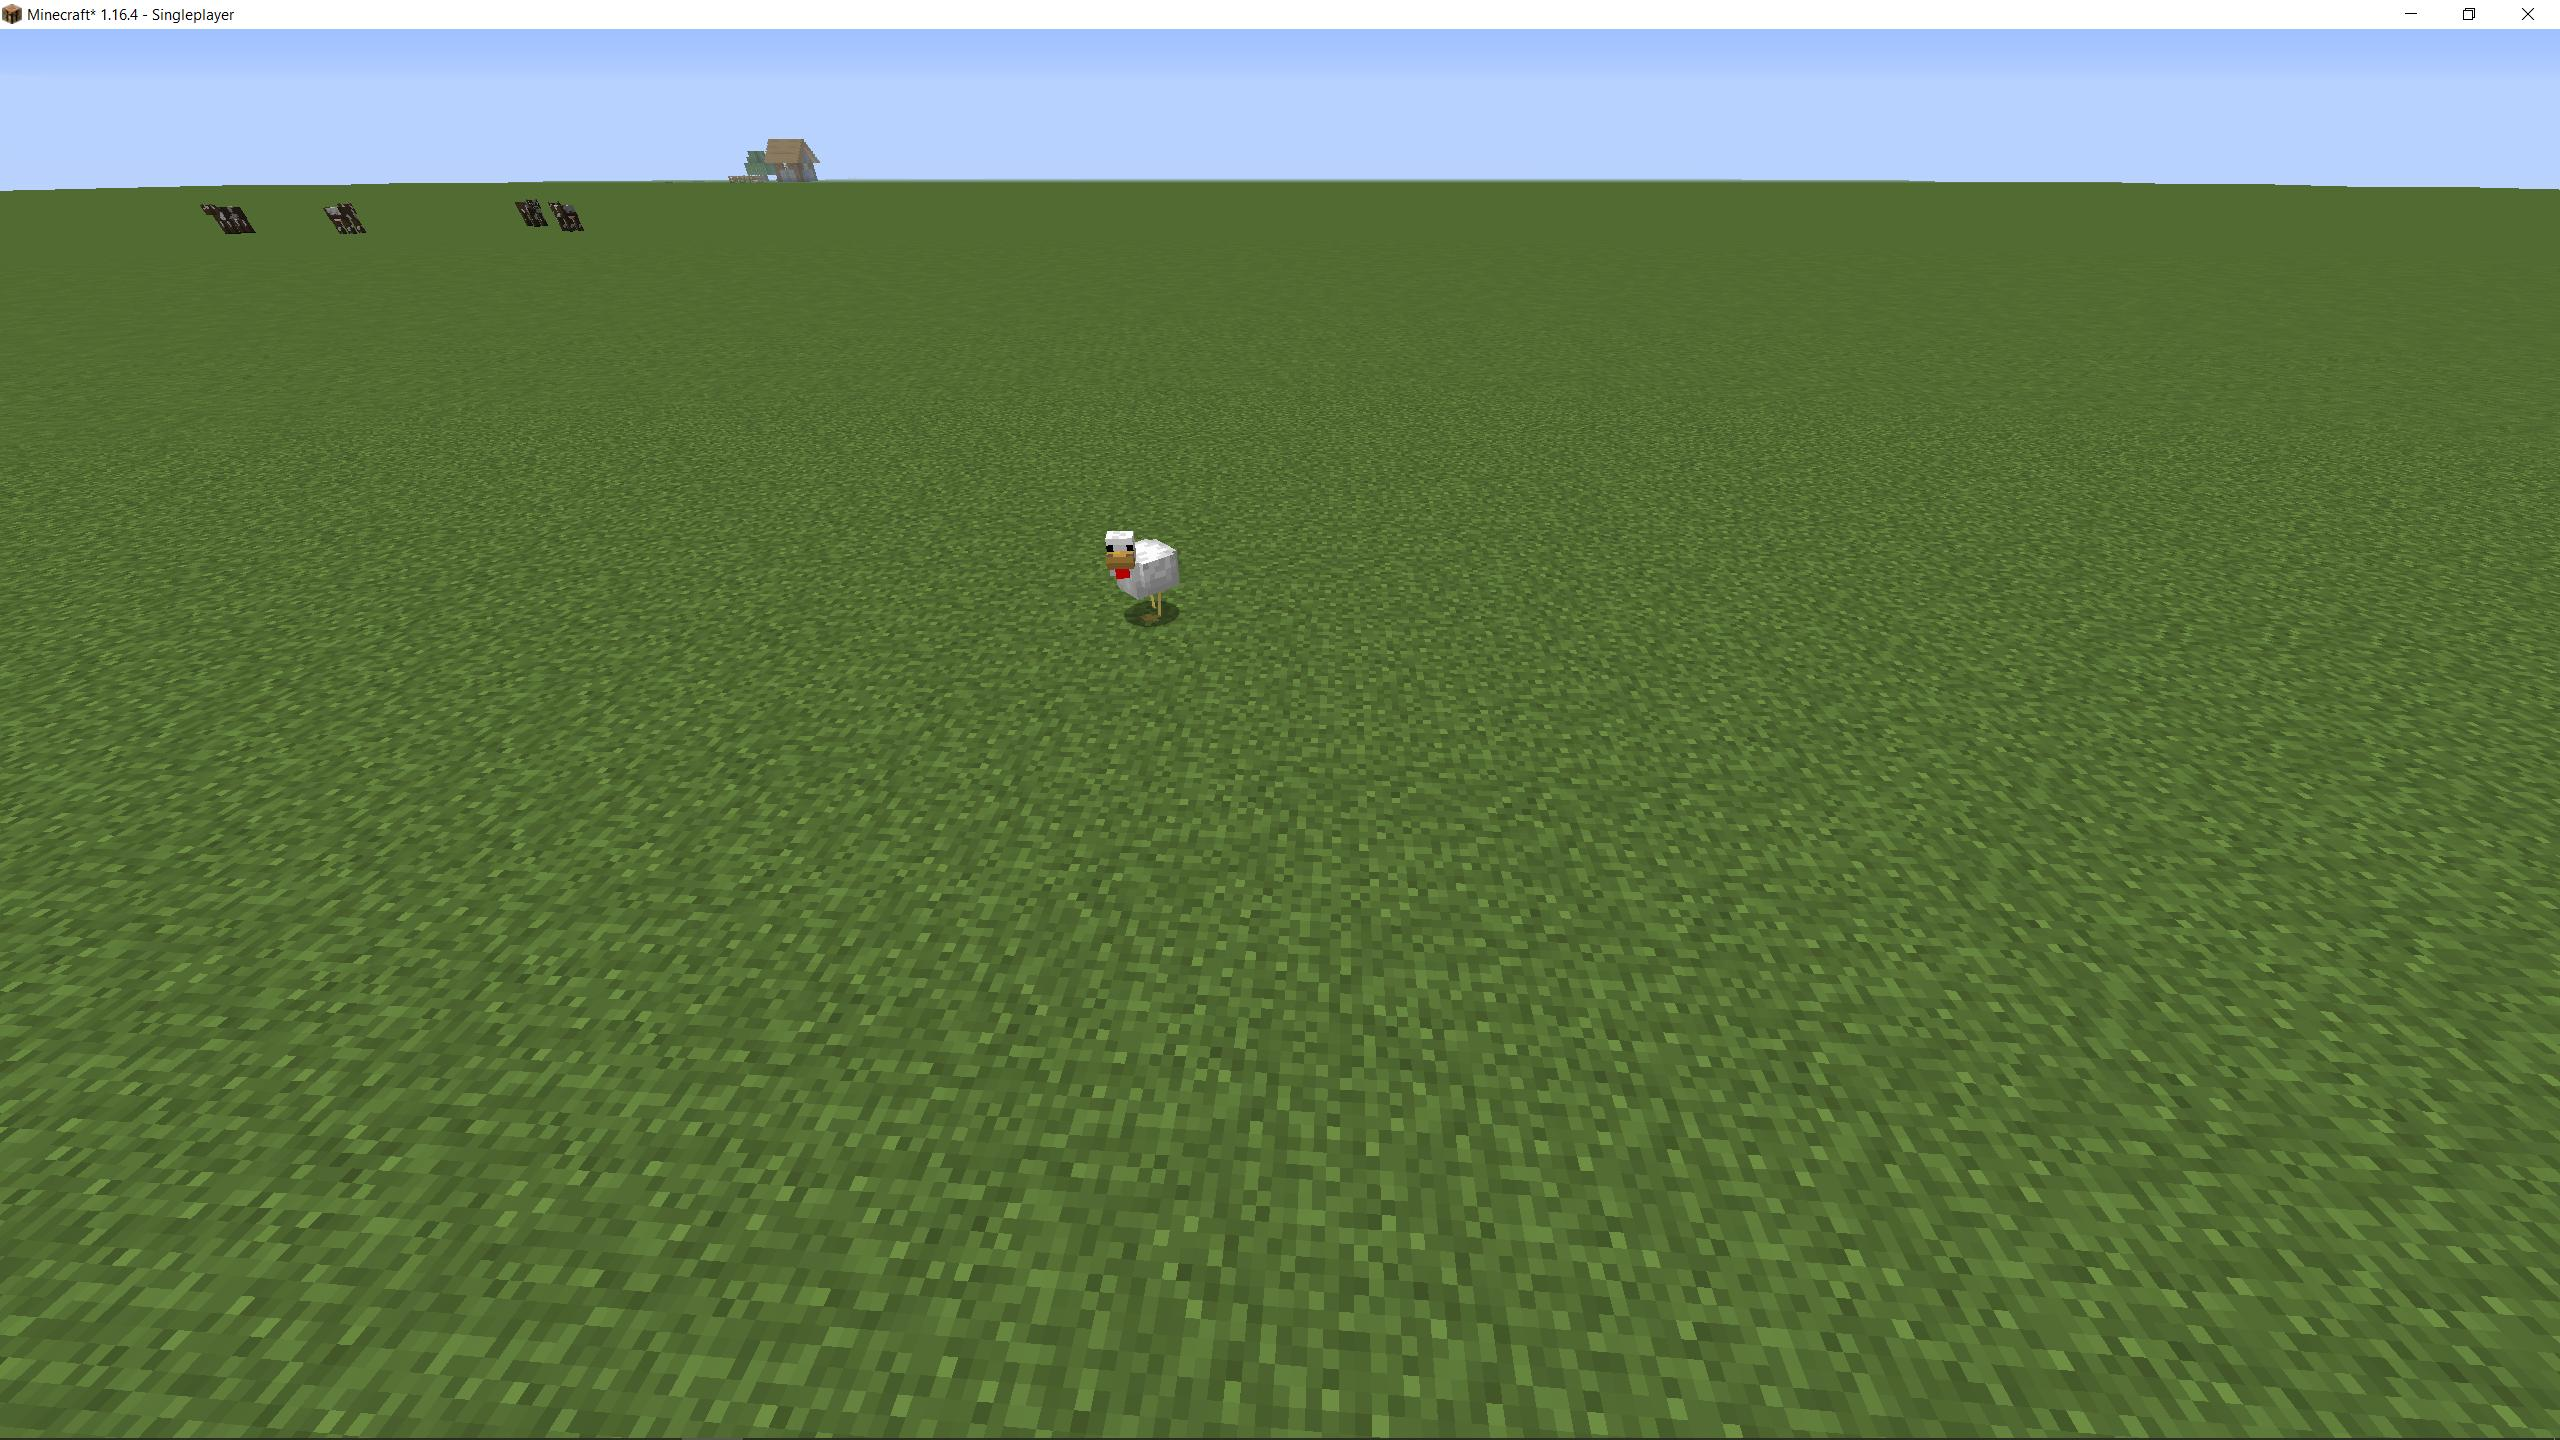chicken: (1101, 535, 1187, 621)
